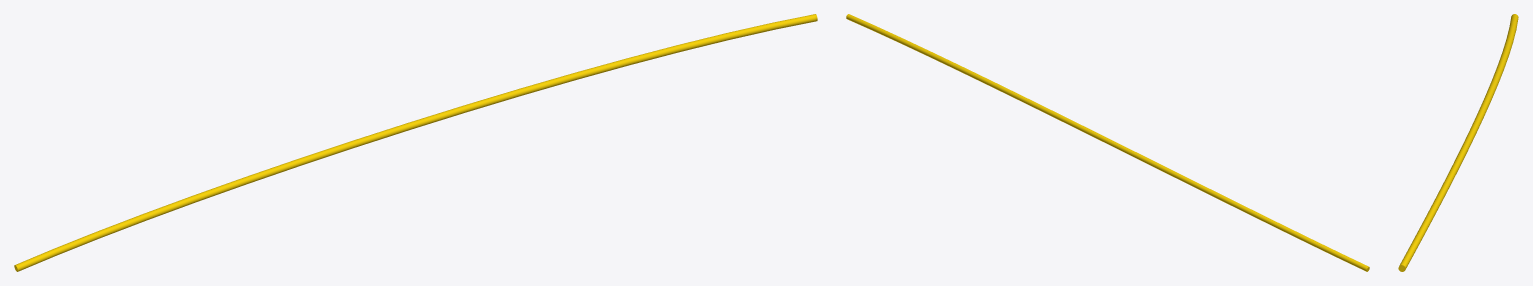
The model's file is Event_421115418_track_163.fbx.
3 views of the same model, side by side, from view 1: azimuth 30°, elevation 25°; view 2: azimuth 150°, elevation 25°; view 3: azimuth 270°, elevation 25° (orthographic). The views are drawn at different scales.
Parts seen in each view (by area): view 1: Model; view 2: Model; view 3: Model.
Part boxes in pixels (x1,y1,x2,y2): Model: (14, 14, 817, 271); Model: (846, 14, 1369, 271); Model: (1398, 14, 1518, 271).
Size of the model in its own units: 4.64 by 0.6995 by 0.6499.
